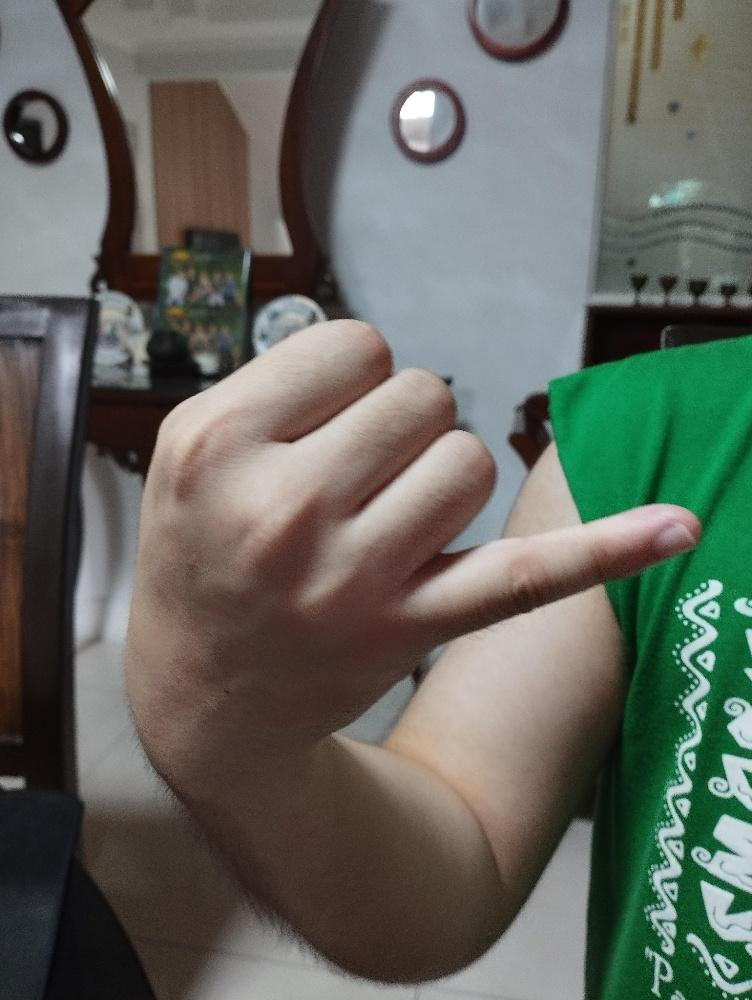j: (118, 314, 707, 770)
